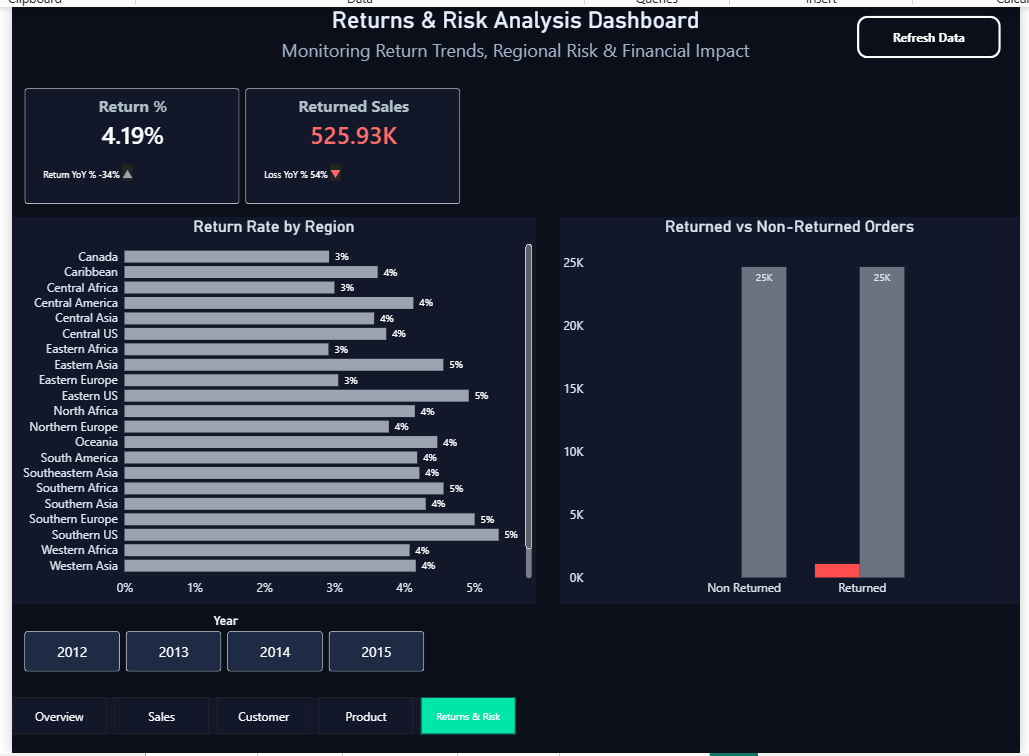

What the dashboard file says about the page in this screenshot:
{"tool":"powerbi","page":{"name":"Returns & Risk","canvas":[1350,1000],"ordinal":4},"visuals":[{"type":"textbox","title":"Returns & Risk Analysis Dashboard","box":[0,0,1350,78.8],"z":0},{"type":"actionButton","box":[1132.7,11.7,192.7,57],"z":2000},{"type":"pageNavigator","box":[0,924.9,675.3,50.3],"z":3000},{"type":"cardVisual","fields":{"Data":["Orders.Return %","Orders.Returned Sales"]},"box":[0,92.2,618.3,189.3],"z":5000},{"type":"clusteredBarChart","title":"Return Rate by Region","fields":{"Category":["Orders.Region"],"Y":["Orders.Region Return %"]},"box":[0,281.5,702.1,519.4],"z":5001},{"type":"clusteredColumnChart","title":"Returned vs Non-Returned Orders","fields":{"Y":["Status.Order Status Count","Status.Non Returned Orders1"],"Category":["Status.Status"]},"box":[733.9,281.5,616.6,519.4],"z":5002},{"type":"advancedSlicerVisual","fields":{"Values":["Date.Year"]},"box":[11.7,812.7,549.6,83.8],"z":5003}]}

Visuals, with their boxes on the page's 1350x1000 design canvas (x1, y1, x2, y2). These are canvas units, not pixel positions in the 1029x756 screenshot, which may show the page scaled, cropped or inside an application window:
"Returns & Risk Analysis Dashboard" textbox: Rect(0, 0, 1350, 79)
actionButton: Rect(1133, 12, 1325, 69)
pageNavigator: Rect(0, 925, 675, 975)
cardVisual - Orders.Return % x Orders.Returned Sales: Rect(0, 92, 618, 282)
"Return Rate by Region" clusteredBarChart: Rect(0, 282, 702, 801)
"Returned vs Non-Returned Orders" clusteredColumnChart: Rect(734, 282, 1350, 801)
advancedSlicerVisual - Date.Year: Rect(12, 813, 561, 896)
